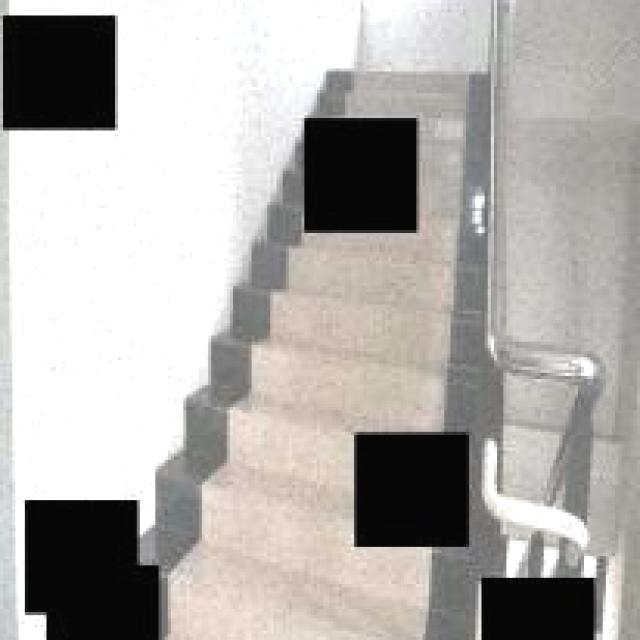upstair: (243, 250, 489, 424)
